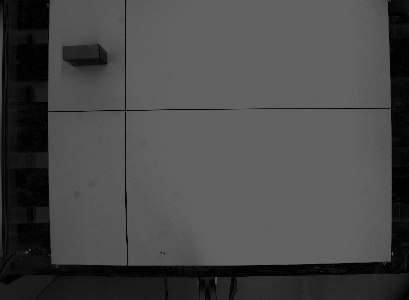b1: (61, 43, 109, 69)
